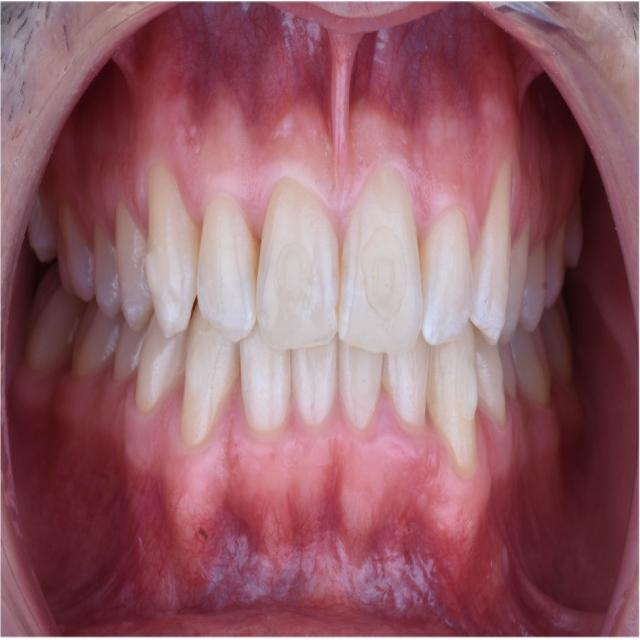tooth: (341, 172, 431, 351), (251, 191, 339, 352), (128, 178, 203, 324), (475, 165, 528, 338), (422, 212, 477, 331), (128, 321, 197, 412), (206, 208, 258, 316), (198, 308, 242, 429), (433, 367, 485, 468), (285, 344, 348, 426), (240, 344, 299, 426), (346, 347, 396, 433), (392, 352, 442, 427), (474, 344, 513, 421), (58, 218, 90, 286), (94, 227, 119, 300)
